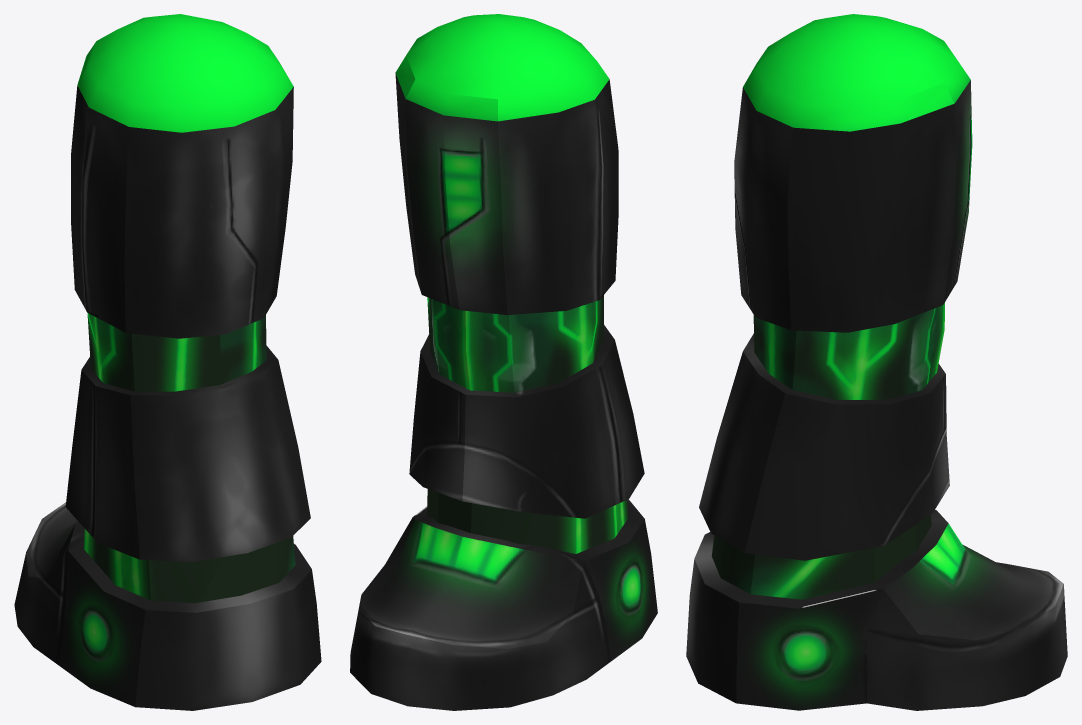
The picture shows the model from 3 angles, left to right: view 1: azimuth 30°, elevation 25°; view 2: azimuth 150°, elevation 25°; view 3: azimuth 270°, elevation 25°; orthographic projection. The views are drawn at different scales.
Visible parts, largest first — view 1: Mesh; view 2: Mesh; view 3: Mesh.
Boxes of the visible parts, x1,y1,x2,y2 form: Mesh: [14, 14, 321, 710]; Mesh: [350, 14, 657, 710]; Mesh: [686, 14, 1067, 710].
Bounding box in the file's own units: 0.8362 × 2.27 × 1.23.
